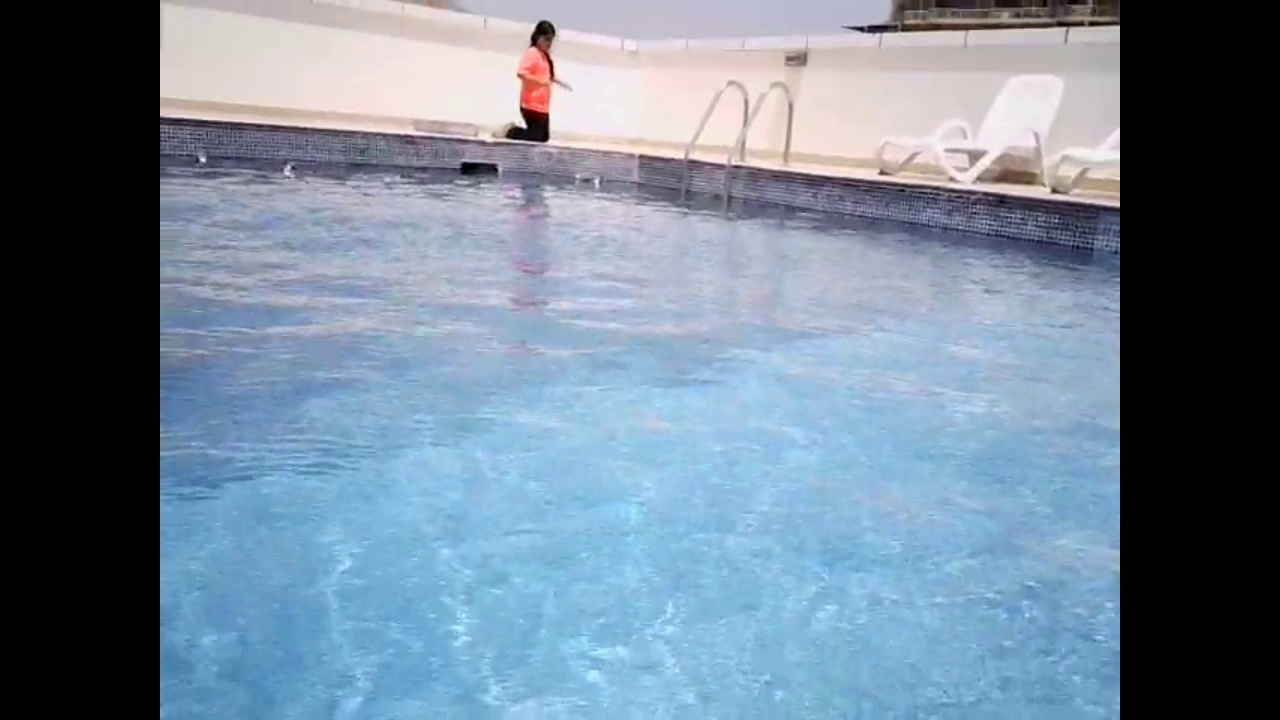debris: (188, 147, 215, 170), (276, 159, 301, 180), (570, 170, 595, 187), (589, 170, 605, 187)
